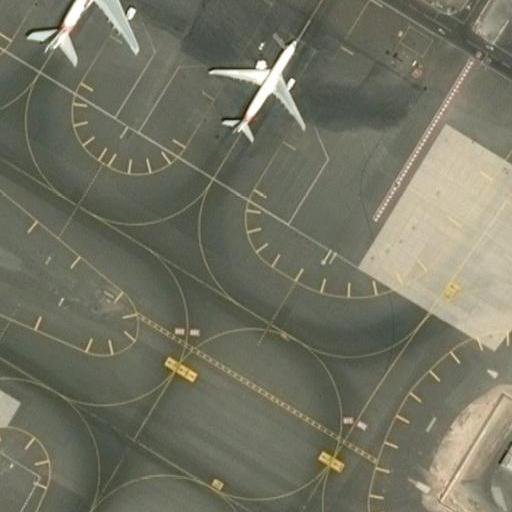Aircraft: (202, 23, 311, 146), (0, 0, 143, 77)
